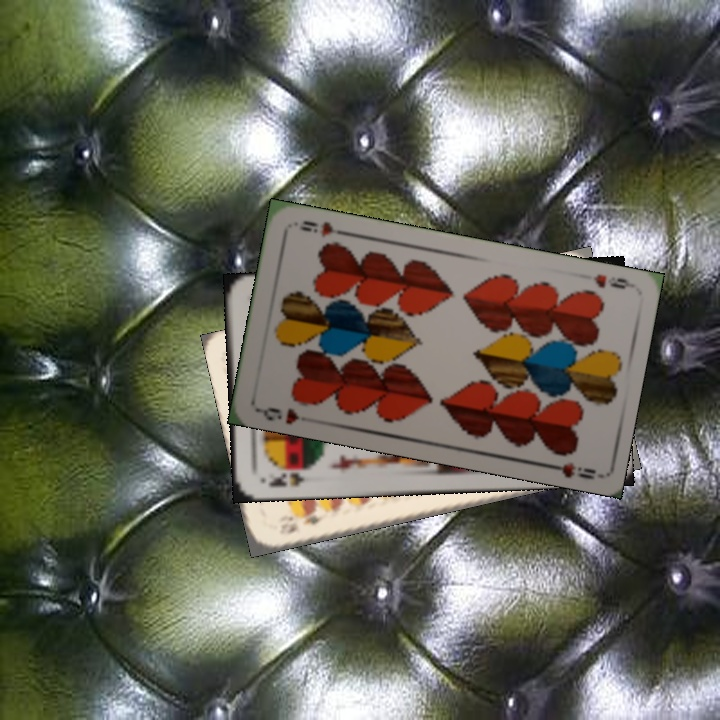E10: (283, 505, 328, 536)
H9: (255, 403, 302, 427), (589, 270, 635, 292)
SK: (257, 463, 314, 490)
